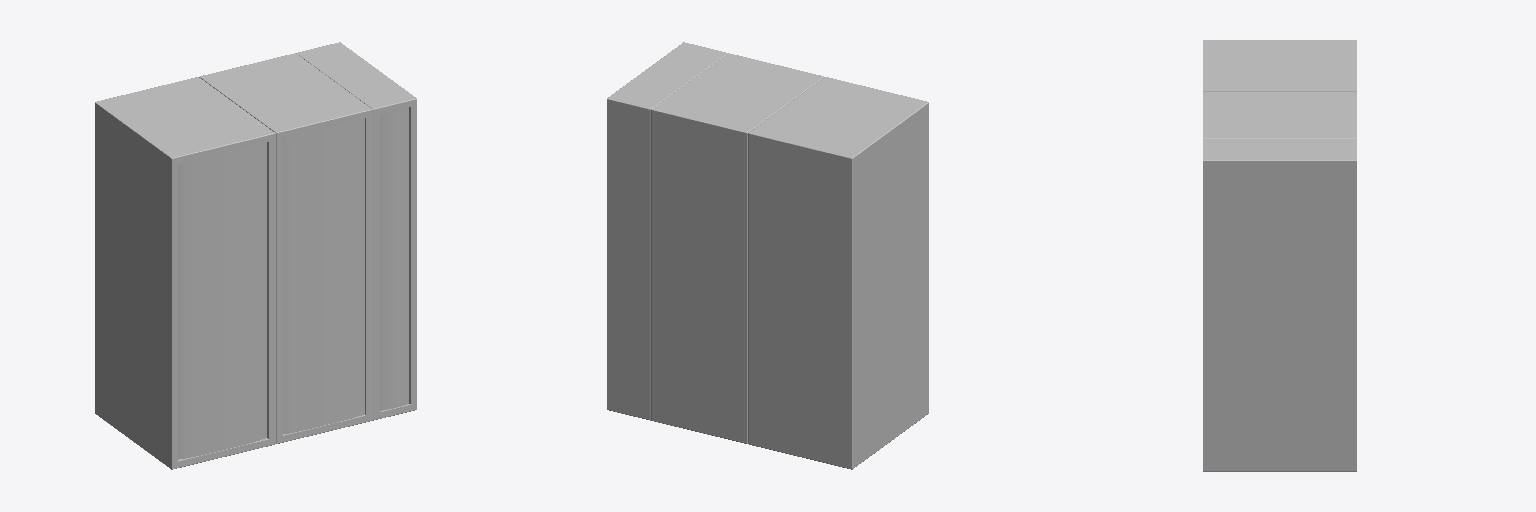
The model's file is ups165-2.obj.
The picture shows the model from 3 angles: view 1: azimuth 30°, elevation 25°; view 2: azimuth 150°, elevation 25°; view 3: azimuth 270°, elevation 25°; orthographic projection.
Parts seen in each view (by area): view 1: ChamferBox47, ChamferBox48; view 2: ChamferBox47, ChamferBox48; view 3: ChamferBox48, ChamferBox47.
Part boxes in pixels (bbox=[...]): ChamferBox47: bbox=[95, 77, 275, 469]; ChamferBox48: bbox=[199, 42, 416, 443]; ChamferBox47: bbox=[748, 77, 928, 469]; ChamferBox48: bbox=[607, 42, 824, 443]; ChamferBox48: bbox=[1203, 91, 1356, 471]; ChamferBox47: bbox=[1203, 40, 1356, 90].
Size of the model in its own units: 165 by 200 by 90.